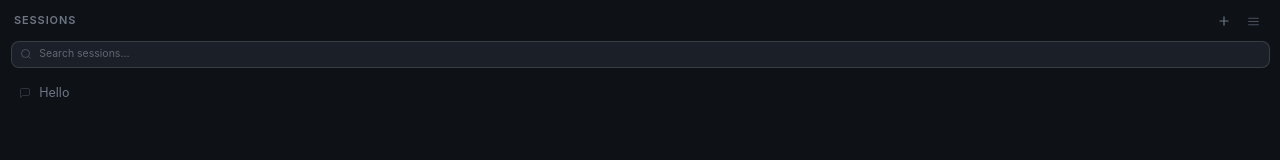
SessionSidebar › clear button resets search
This screenshot has width=1280, height=160.
Type "hello" into the field with placeholder "Search sessions…" at (650, 54), box [39,47,1260,61]
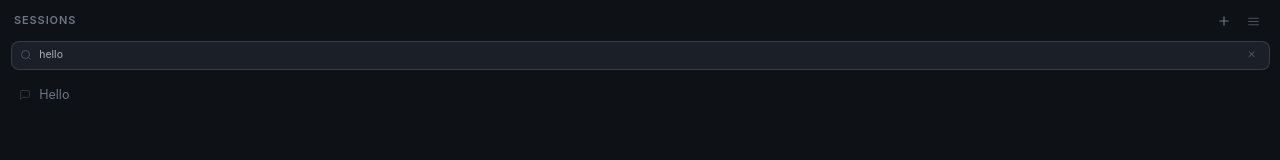
Check: the button titled "Clear" is shown
Click the button titled "Clear" at (1252, 55), box [1244,47,1260,63]
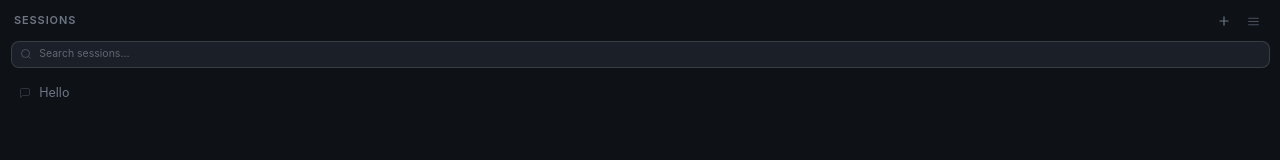
Check: the field with placeholder "Search sessions…" is empty, box [39,47,1260,61]
